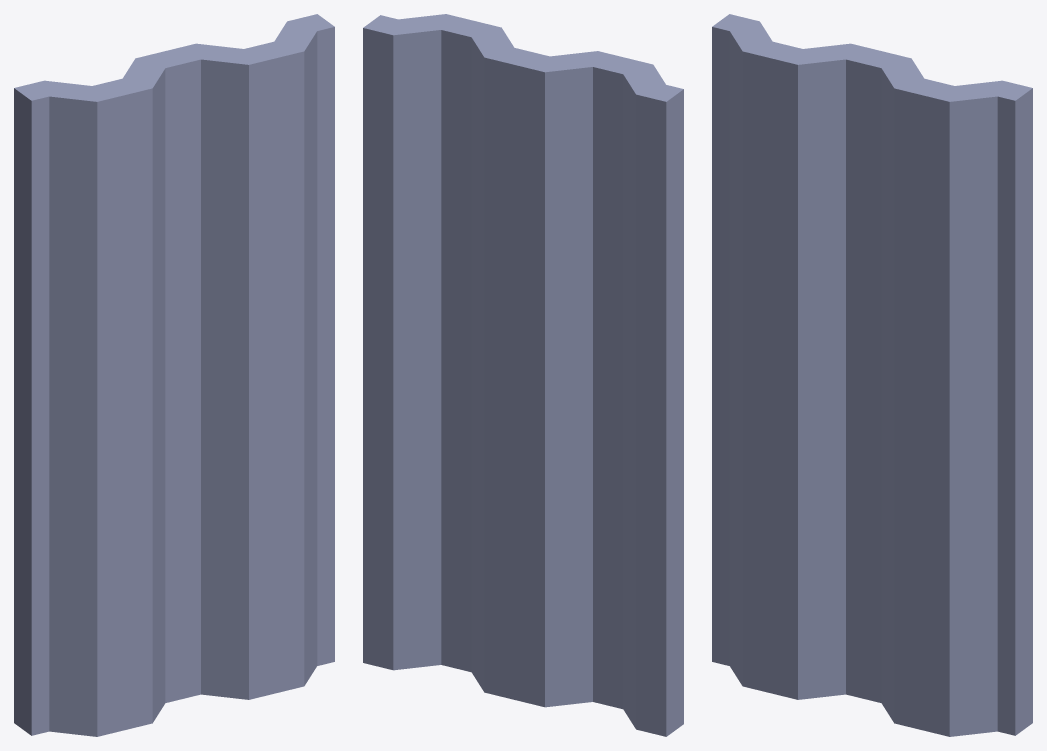
The model's file is metal-panel-narrow.obj.
The picture shows the model from 3 angles, left to right: view 1: azimuth 30°, elevation 25°; view 2: azimuth 150°, elevation 25°; view 3: azimuth 330°, elevation 25°; orthographic projection.
Size of the model in its own units: 0.25 by 0.5 by 0.05.
